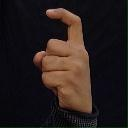hand: (32, 7, 92, 114)
